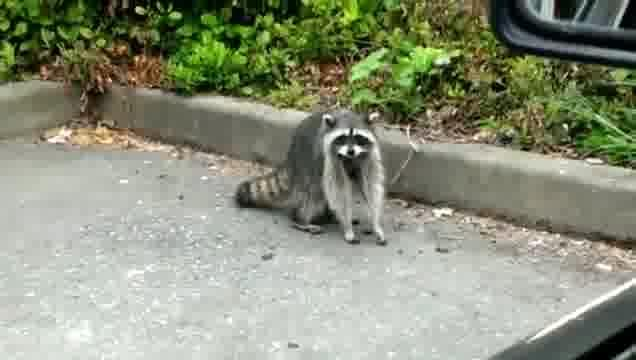raccoon: (236, 111, 386, 246)
